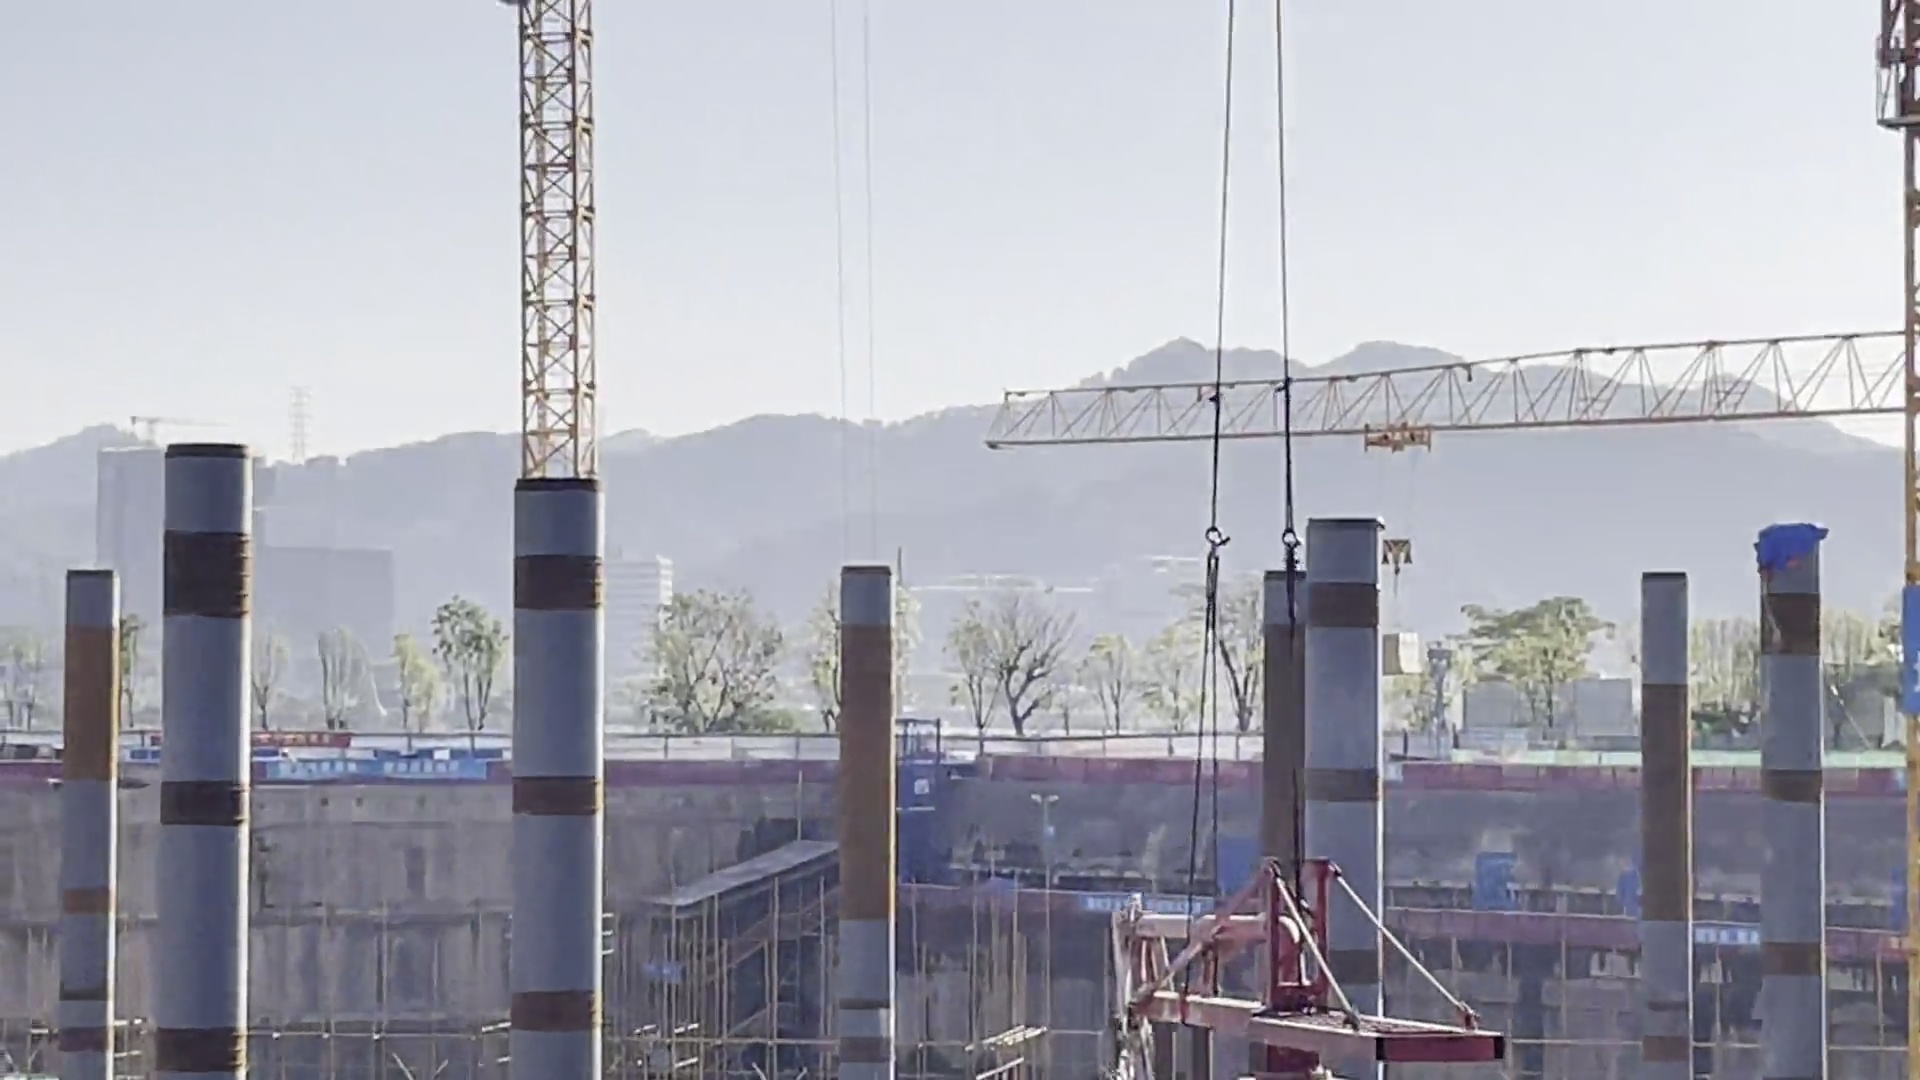hook: (1382, 533, 1414, 570)
slogan: (269, 760, 473, 785), (1083, 891, 1203, 919), (1683, 920, 1764, 948)
